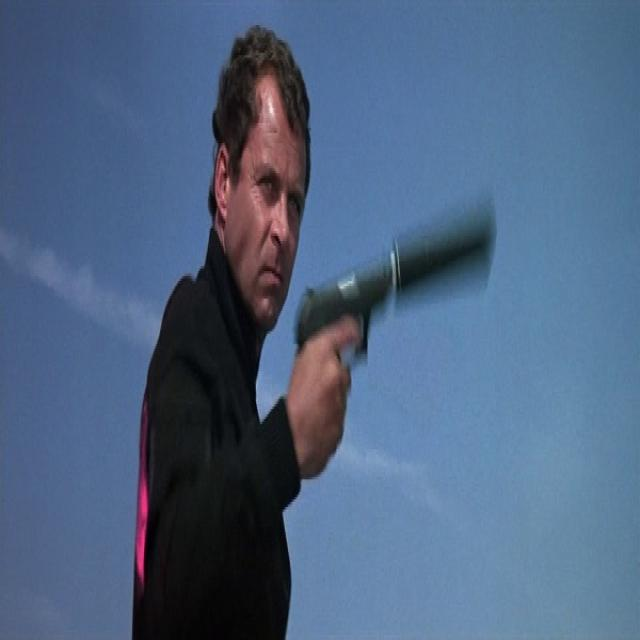weapons: (290, 182, 500, 453)
